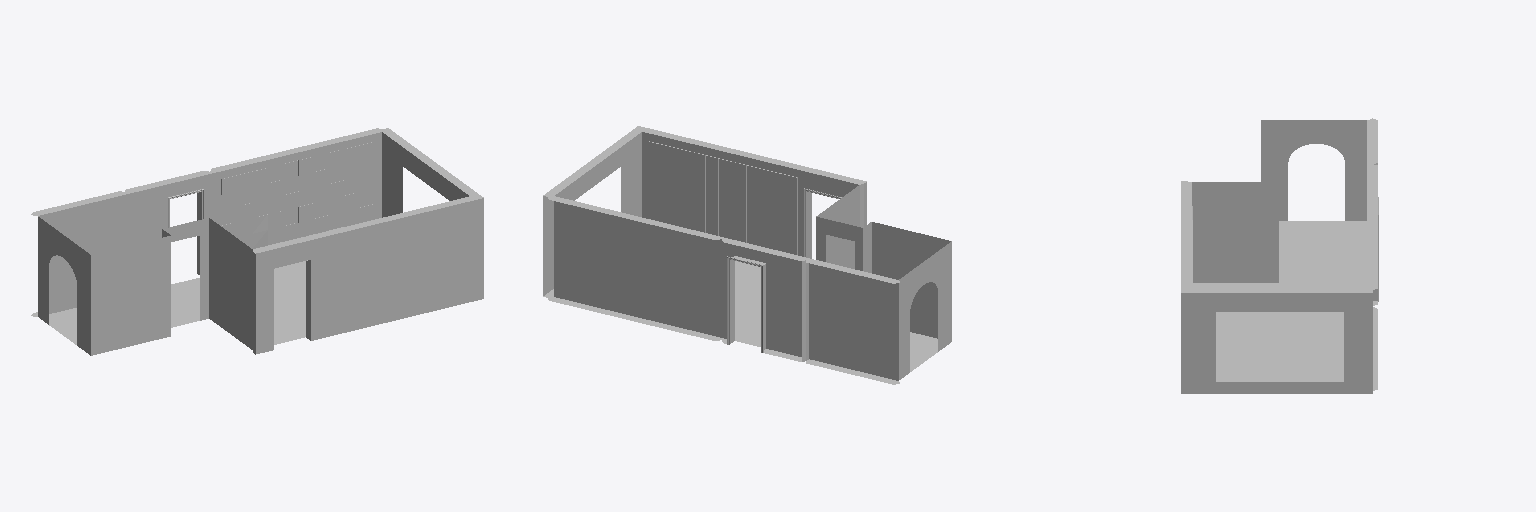
The model's file is mesh_noceilling.obj.
3 views of the same model, side by side, from view 1: azimuth 30°, elevation 25°; view 2: azimuth 150°, elevation 25°; view 3: azimuth 270°, elevation 25° (orthographic).
Size of the model in its own units: 9.64 by 2.6 by 4.6.